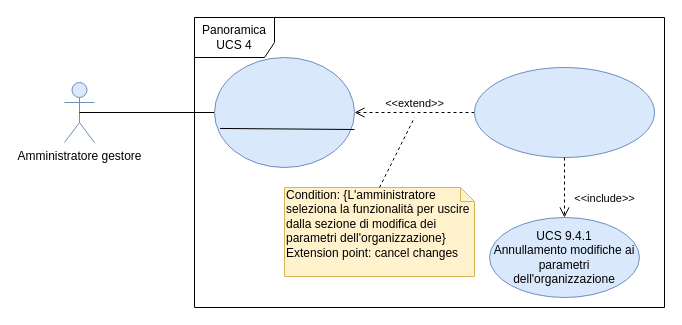
This 682x325 diagram has some shape labels left out. Each missing label, with the centre of its shape:
"UCS 4 Modifica dei parametri di un'organizzazione Extension points: UCS 4.3" goes at (284,112).
"UCS 4.3 Annullamento modifiche ai parametri dell'organizzazione" goes at (564,112).
